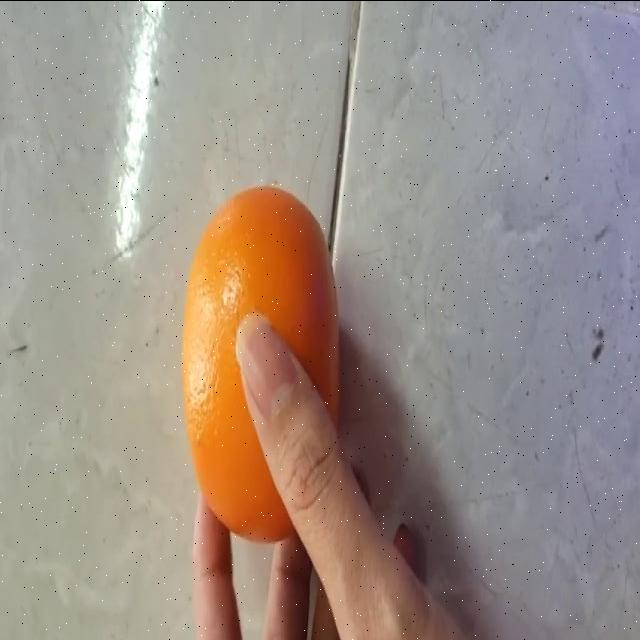Orange: (179, 184, 342, 544)
